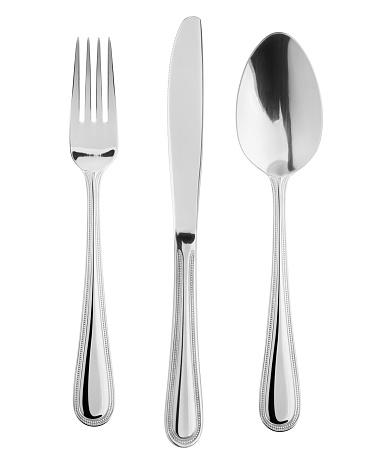knife: (165, 5, 206, 448)
